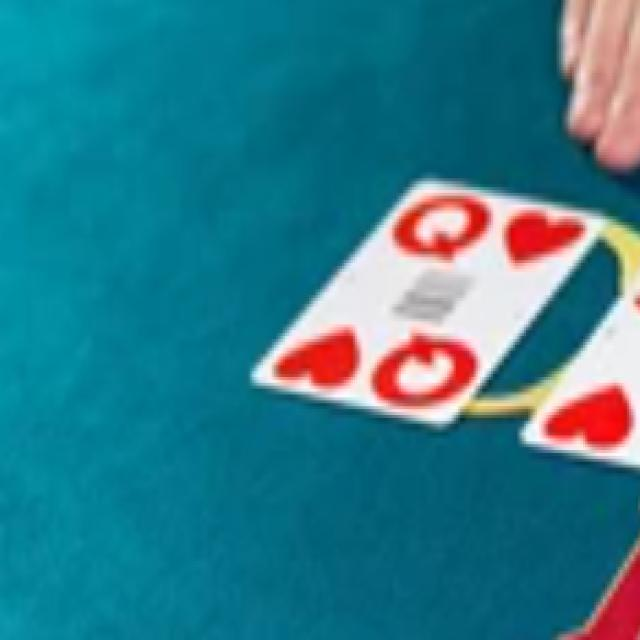Card-Q: (250, 175, 609, 426)
